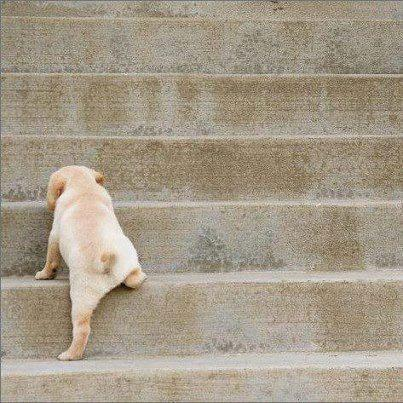puppy-dog: (34, 165, 146, 363)
